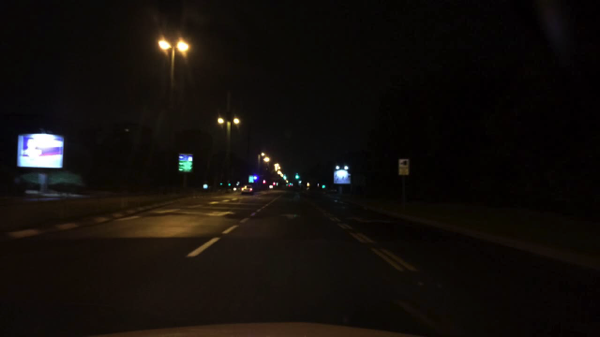car: (240, 184, 254, 196), (286, 183, 294, 188)
traffic light: (294, 174, 300, 180), (321, 183, 326, 190), (282, 175, 287, 181), (261, 178, 266, 184), (272, 181, 277, 186)
traffic sign: (177, 154, 193, 172), (397, 159, 411, 176), (247, 176, 255, 184)
